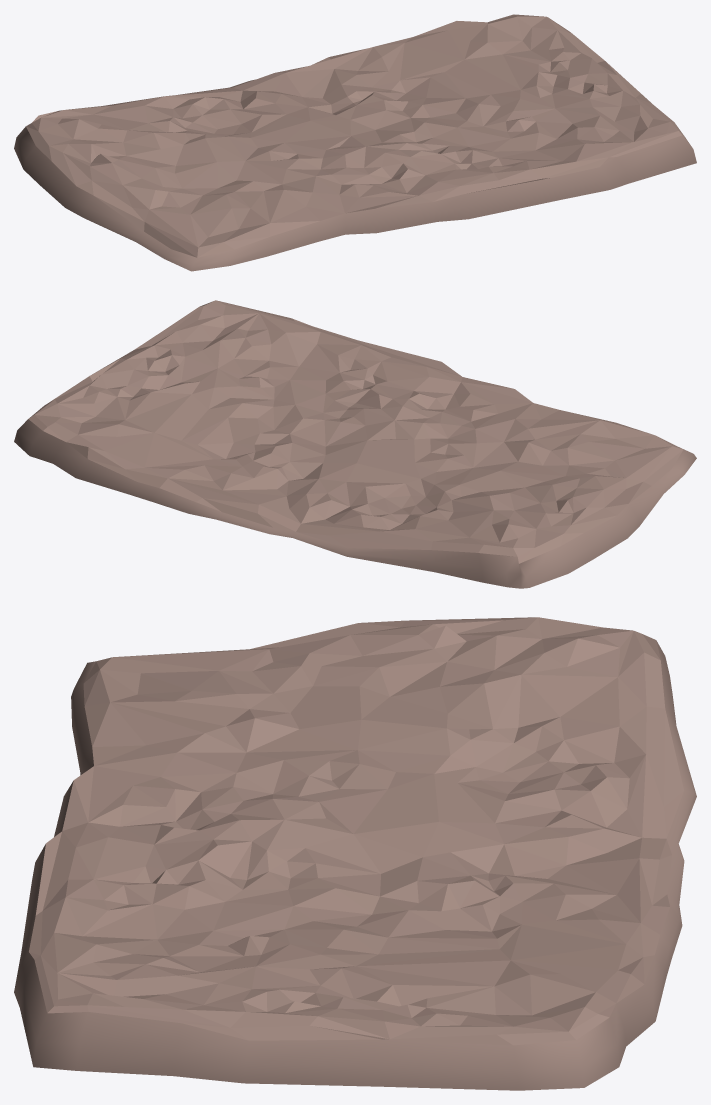
The model's file is landscape_004.glb.
The picture shows the model from 3 angles, top to bottom: view 1: azimuth 30°, elevation 25°; view 2: azimuth 150°, elevation 25°; view 3: azimuth 270°, elevation 25°; orthographic projection. The views are drawn at different scales.
Visible parts, largest first — view 1: landscape_004; view 2: landscape_004; view 3: landscape_004.
Boxes of the visible parts, x1,y1,x2,y2 form: landscape_004: [14, 14, 696, 271]; landscape_004: [14, 300, 696, 588]; landscape_004: [14, 617, 696, 1090].
Bounding box in the file's own units: 71.45 × 4.4 × 46.2.
Materials: 1 (1 with a texture image).
